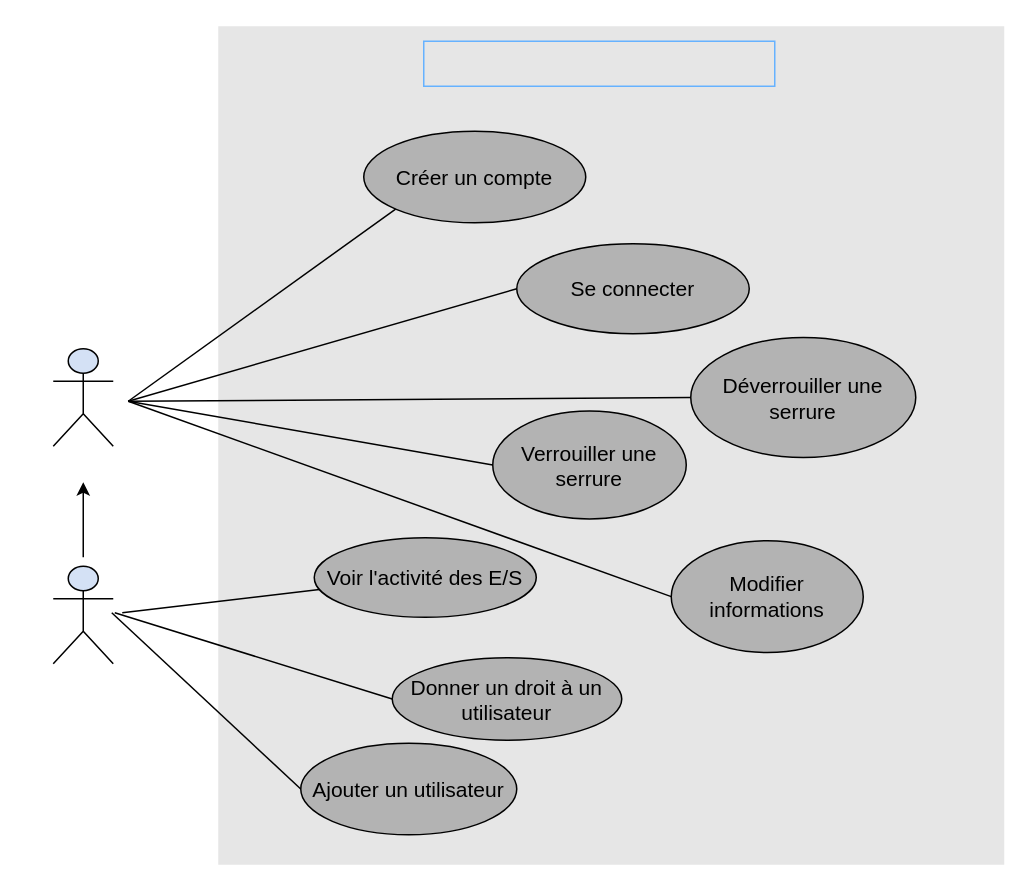
This 1031x890 diagram has some shape labels left out. Here are the shapes that lost their labels. From the top down, the centre of each, then its label:
At pixel 598 63: "Cas d'utilisation".
At pixel 82 396: "Utilisateur".
At pixel 82 614: "Administrateur".
